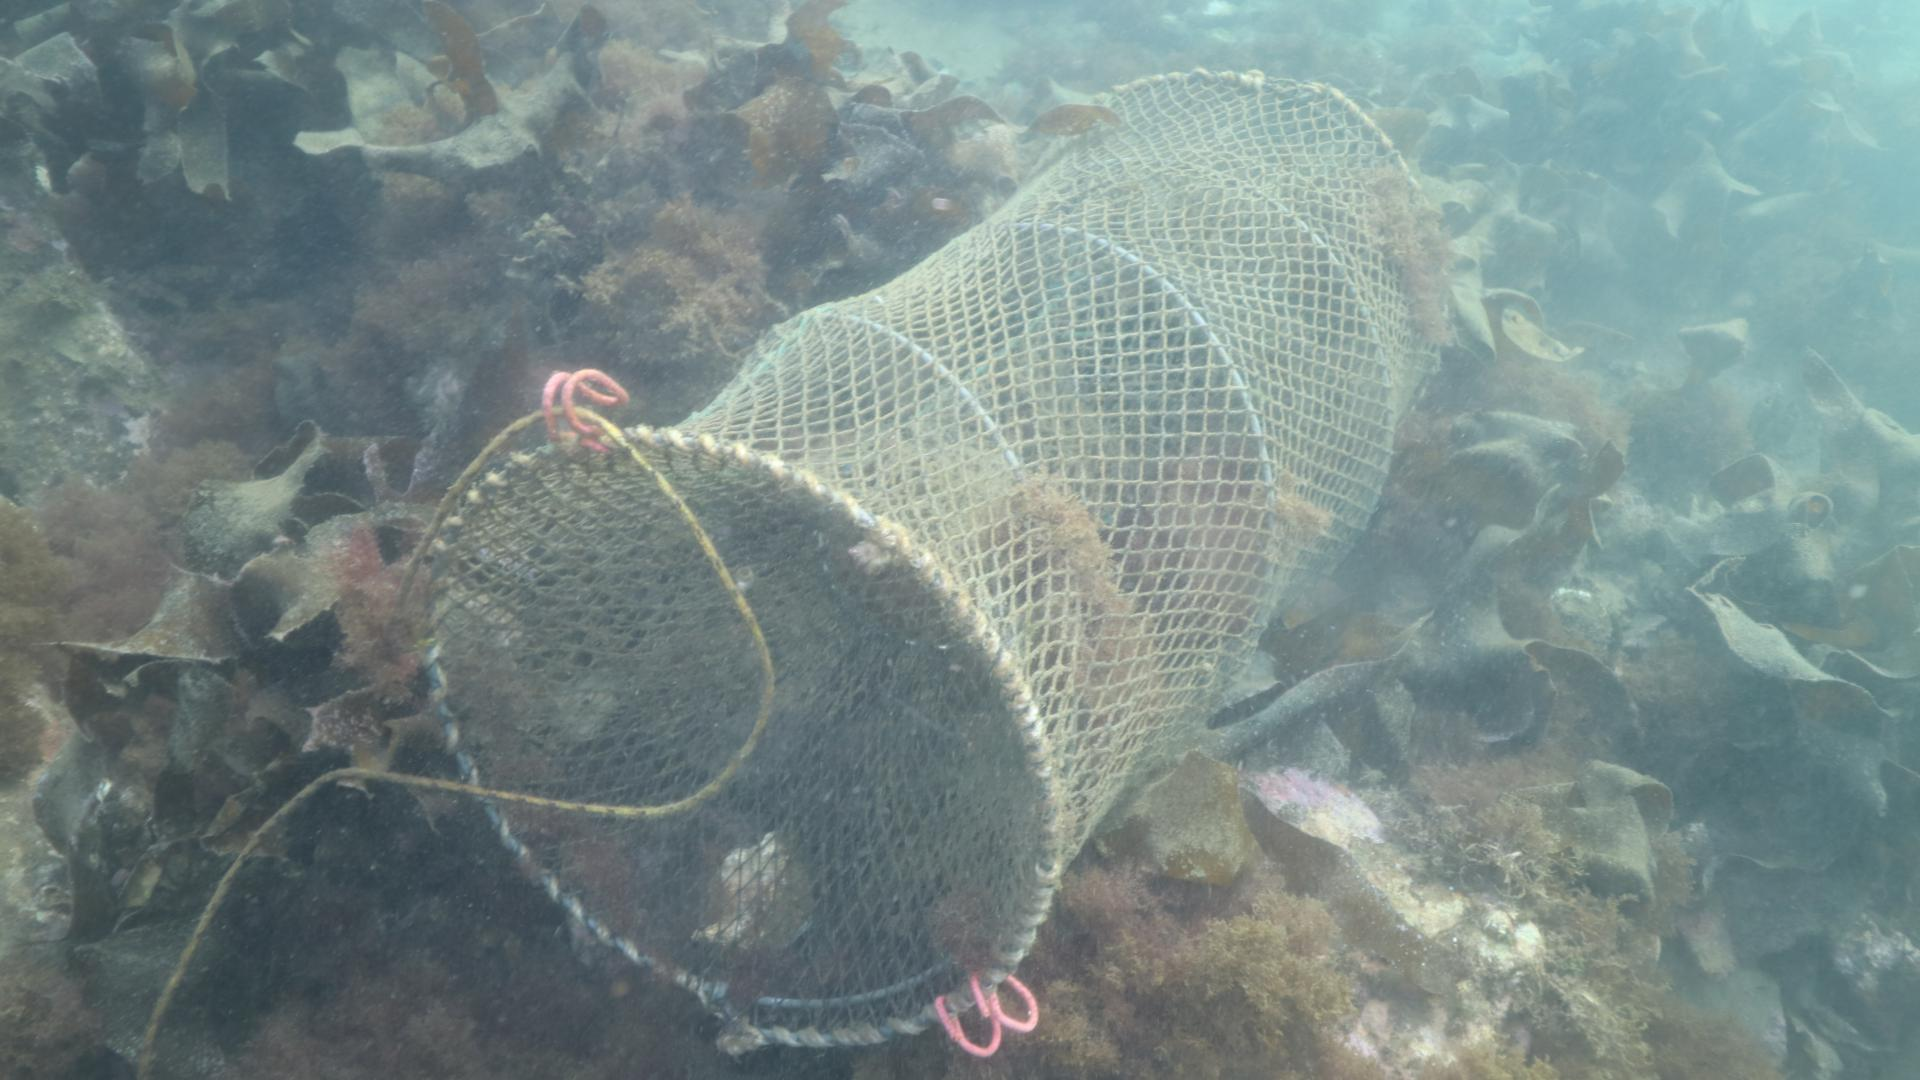rope: (124, 404, 777, 1077)
spring fish trap: (421, 65, 1452, 1050)
